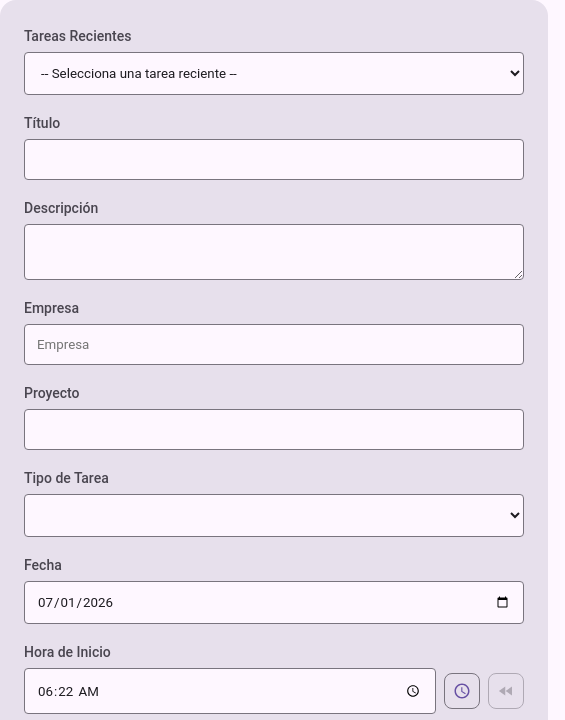
Test: TaskForm Company Integration › should populate company when selecting a recent task
Select "Recent Task (Recent Project)" in the dropdown labelled "Tareas Recientes" at (274, 74), box [24,52,524,95]
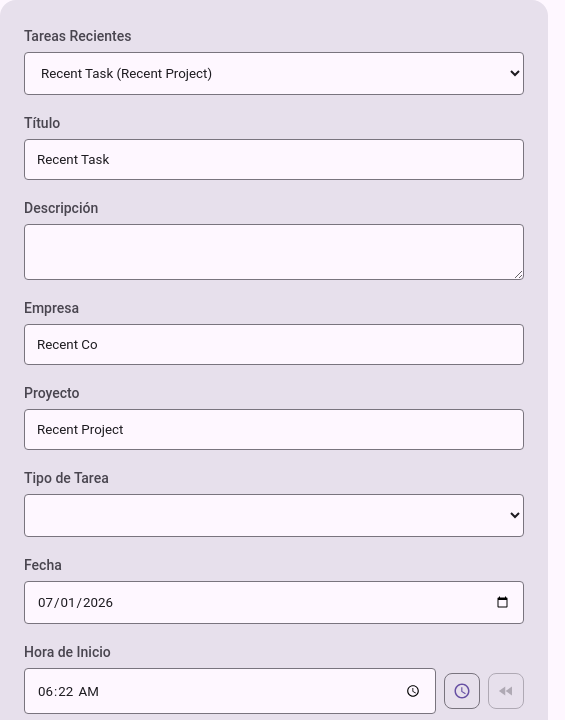
Expected: the field labelled "Empresa" holds "Recent Co", [24,324,524,365]
